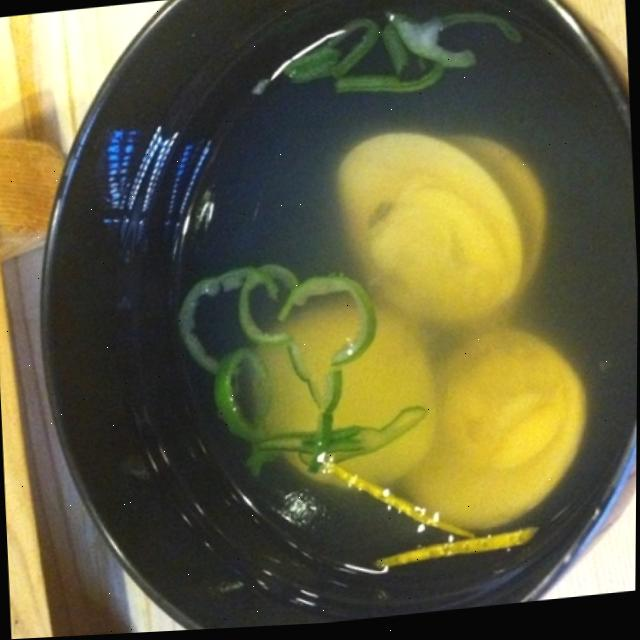汤锅炖物: (154, 3, 640, 626)
